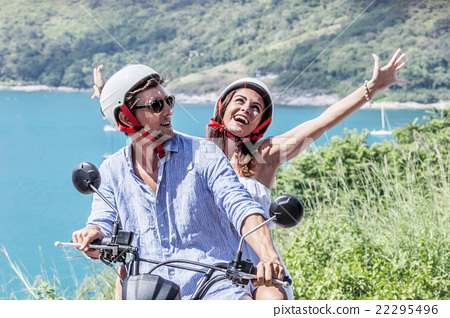helmet: (92, 70, 172, 123), (213, 76, 277, 125)
